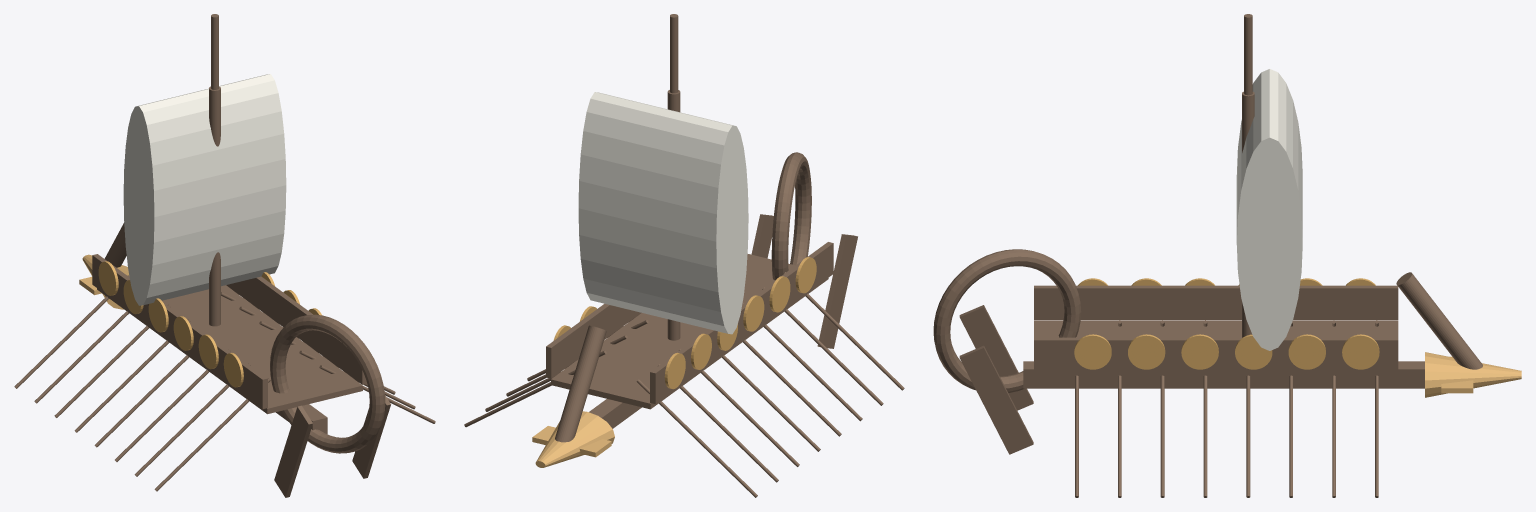
File: theseus_galley.glb
3 views of the same model, side by side, from view 1: azimuth 30°, elevation 25°; view 2: azimuth 150°, elevation 25°; view 3: azimuth 270°, elevation 25° (orthographic). The views are drawn at different scales.
Visible parts, largest first — view 1: Billowing_Sail, Main_Deck, Stern_Aphlaston, Bulwark_Starboard, Bulwark_Port, Rudder_Port, Main_Mast, Rudder_Star, Yardarm, Shield_Port_2, Shield_Port_1, Shield_Port_5 (+12 smaller); view 2: Billowing_Sail, Main_Deck, Stern_Aphlaston, Bulwark_Port, Bulwark_Starboard, Bow_Stempost, Bronze_Ram, Rudder_Port, Keel_Main, Yardarm, Rudder_Star, Ram_Fins (+14 smaller); view 3: Billowing_Sail, Bulwark_Port, Bulwark_Starboard, Main_Deck, Keel_Main, Stern_Aphlaston, Rudder_Star, Bow_Stempost, Bronze_Ram, Rudder_Port, Shield_Star_0, Shield_Star_2 (+6 smaller).
Part boxes in pixels (box(x1,y1,x2,y2)): Billowing_Sail: box(123, 74, 286, 305); Main_Deck: box(97, 285, 362, 414); Stern_Aphlaston: box(270, 314, 385, 453); Bulwark_Starboard: box(226, 276, 367, 384); Bulwark_Port: box(92, 254, 267, 409); Rudder_Port: box(274, 405, 312, 497); Main_Mast: box(209, 86, 220, 326); Rudder_Star: box(352, 395, 390, 478); Yardarm: box(211, 14, 218, 89); Shield_Port_2: box(173, 316, 193, 350); Shield_Port_1: box(198, 334, 218, 369); Shield_Port_5: box(98, 261, 118, 295); Billowing_Sail: box(578, 92, 748, 334); Main_Deck: box(551, 254, 828, 409); Stern_Aphlaston: box(771, 152, 811, 280); Bulwark_Port: box(650, 242, 833, 403); Bulwark_Starboard: box(546, 303, 640, 378); Bow_Stempost: box(555, 325, 606, 442); Bronze_Ram: box(535, 411, 614, 467); Rudder_Port: box(817, 234, 857, 348); Keel_Main: box(589, 399, 641, 428); Yardarm: box(670, 14, 678, 93); Rudder_Star: box(751, 214, 773, 258); Ram_Fins: box(532, 426, 611, 457); Billowing_Sail: box(1236, 69, 1302, 350); Bulwark_Port: box(1034, 285, 1398, 319); Bulwark_Starboard: box(1034, 337, 1398, 371); Main_Deck: box(1034, 320, 1398, 375); Keel_Main: box(1023, 361, 1424, 388); Stern_Aphlaston: box(933, 249, 1081, 392); Rudder_Star: box(959, 345, 1033, 454); Bow_Stempost: box(1396, 272, 1482, 369); Bronze_Ram: box(1425, 352, 1521, 397); Rudder_Port: box(959, 305, 1033, 410); Shield_Star_0: box(1074, 334, 1111, 369); Shield_Star_2: box(1181, 334, 1218, 369).
Size of the model in its own units: 6.46 by 8.6 by 10.98.
